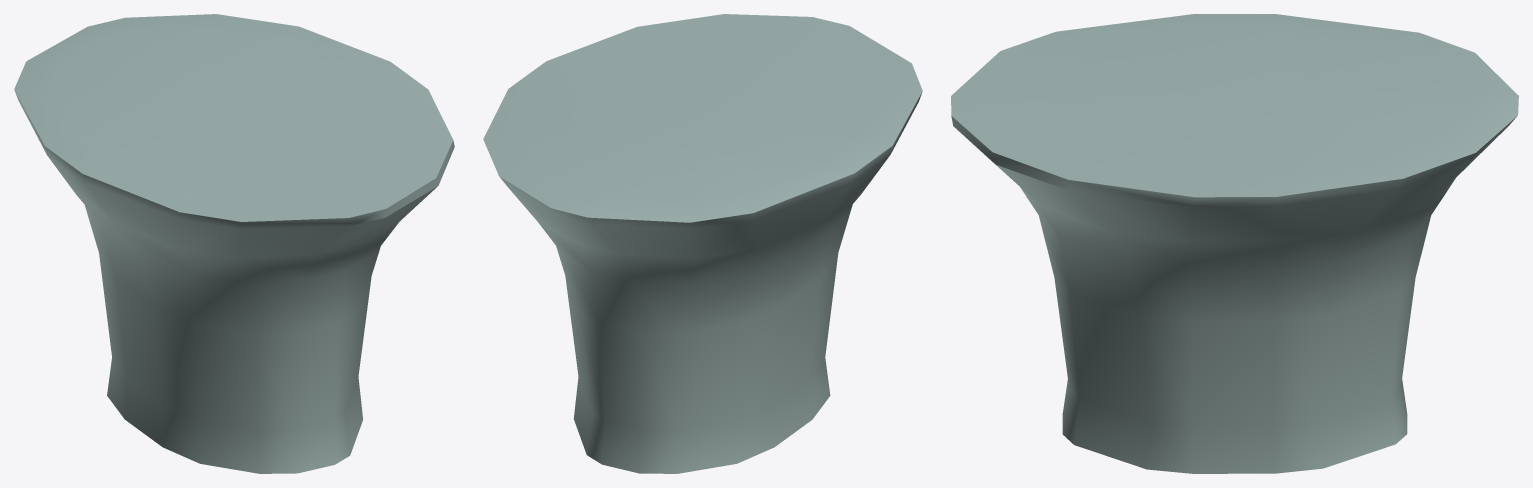
The model's file is SM_Stone_3_Placeholder_V2.fbx.
3 views of the same model, side by side, from view 1: azimuth 30°, elevation 25°; view 2: azimuth 150°, elevation 25°; view 3: azimuth 270°, elevation 25° (orthographic). The views are drawn at different scales.
Parts seen in each view (by area): view 1: SM_Stone_3_Placeholder_V2; view 2: SM_Stone_3_Placeholder_V2; view 3: SM_Stone_3_Placeholder_V2.
Part boxes in pixels (bbox=[...]): SM_Stone_3_Placeholder_V2: bbox=[14, 14, 454, 473]; SM_Stone_3_Placeholder_V2: bbox=[483, 14, 922, 473]; SM_Stone_3_Placeholder_V2: bbox=[951, 14, 1518, 473].
Bounding box in the file's own units: 1910 × 1607 × 2501.
